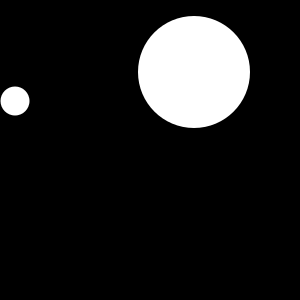rectangle: (138, 16, 250, 128), (1, 86, 30, 116)
